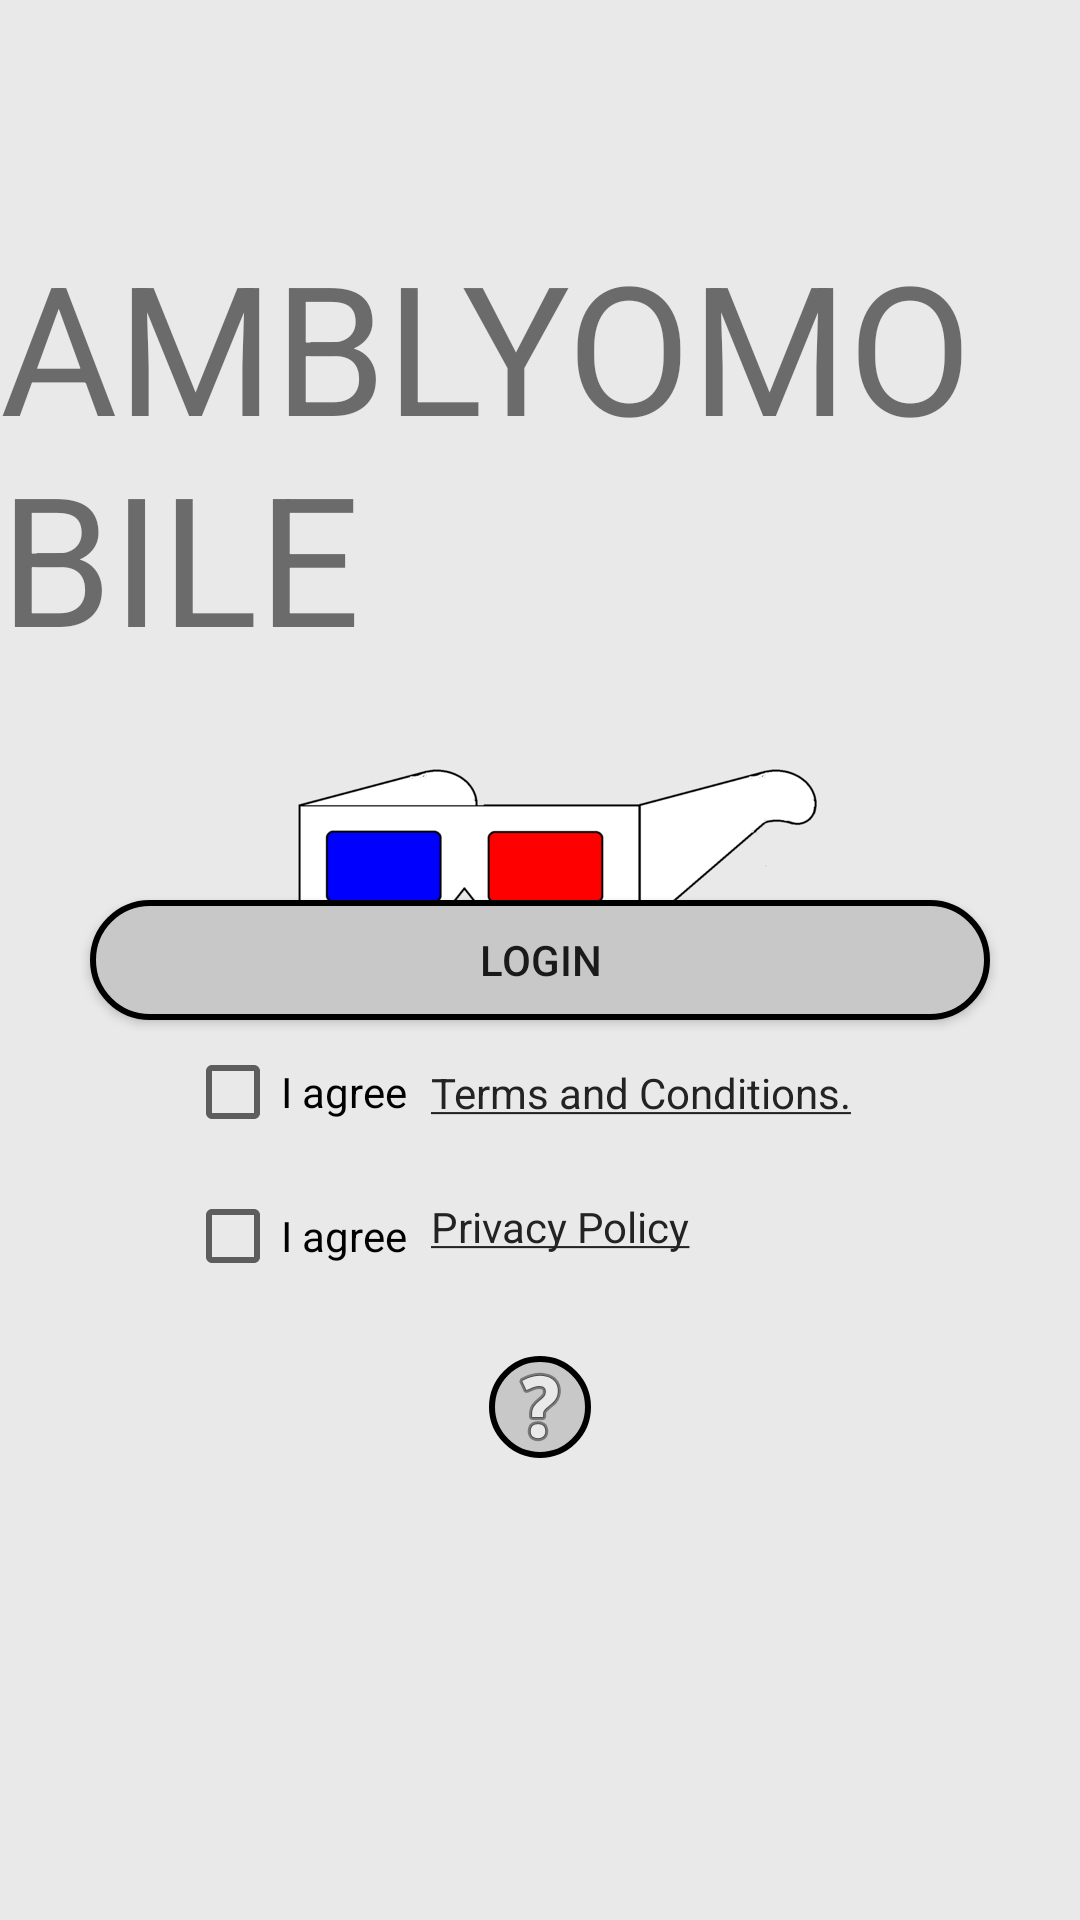

Where icons sit on this 1080 x 1920 app screen, as (x1, y1, x2, y2):
FAQ: (489, 1356, 591, 1458)
